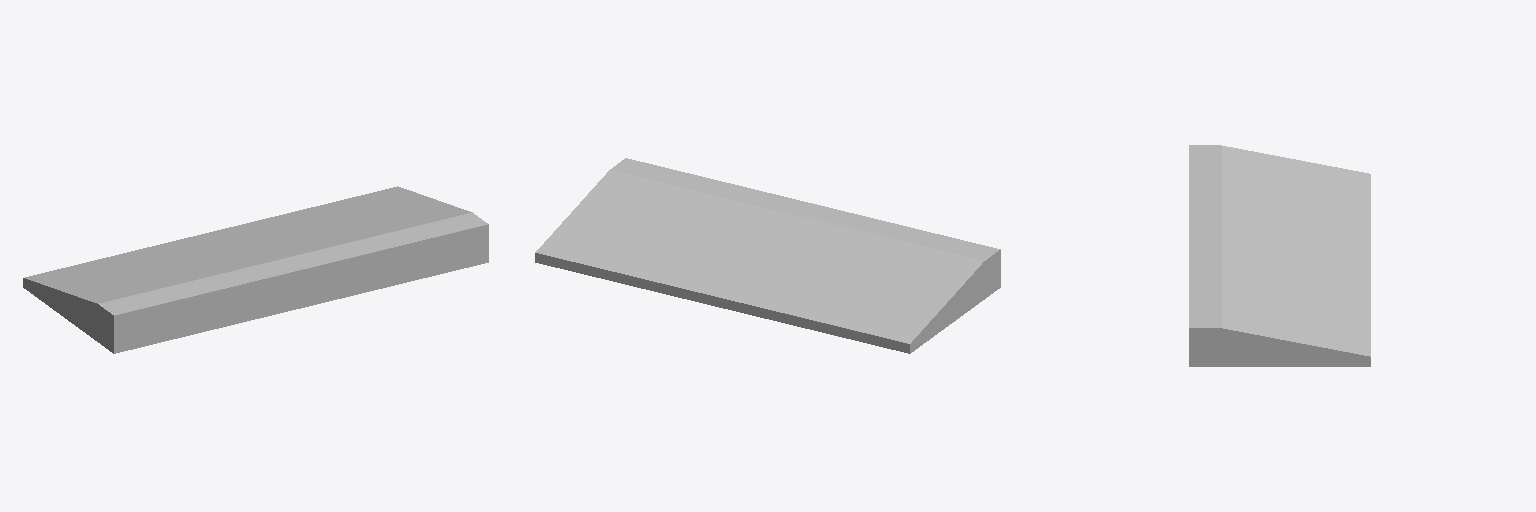
The model's file is computerKeyboard.obj.
The picture shows the model from 3 angles: view 1: azimuth 30°, elevation 25°; view 2: azimuth 150°, elevation 25°; view 3: azimuth 270°, elevation 25°; orthographic projection.
Visible parts, largest first — view 1: computerKeyboard; view 2: computerKeyboard; view 3: computerKeyboard.
Part boxes in pixels (bbox=[...]): computerKeyboard: bbox=[23, 186, 488, 353]; computerKeyboard: bbox=[535, 158, 1000, 353]; computerKeyboard: bbox=[1189, 145, 1370, 366].
Bounding box in the file's own units: 0.2822 × 0.0276 × 0.1182.